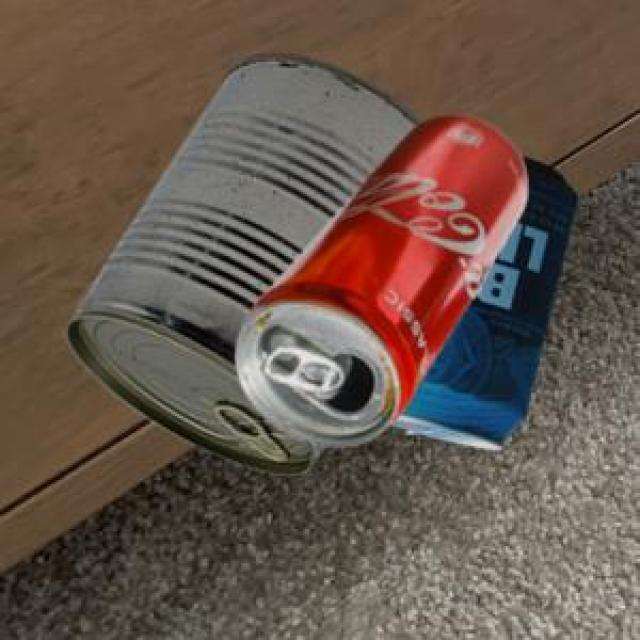Can: (63, 52, 419, 470), (231, 114, 524, 443), (387, 155, 575, 447)
